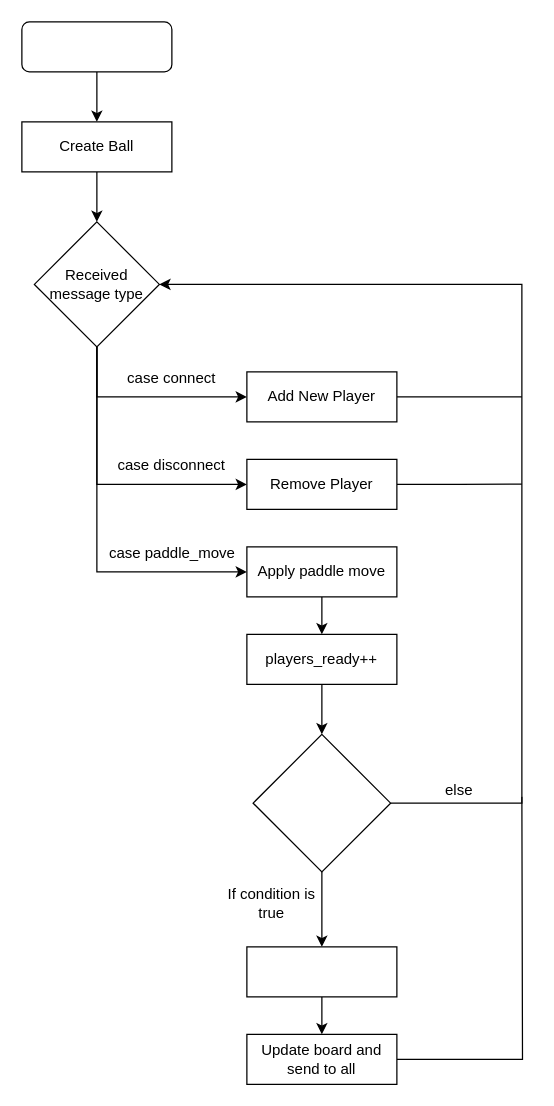
This 554x1106 diagram has some shape labels left out. Each missing label, with the centre of its shape:
"Move_ball" goes at pixel 321 971.
"players_ready == regis_players" goes at pixel 321 802.
"Start" goes at pixel 96 46.
